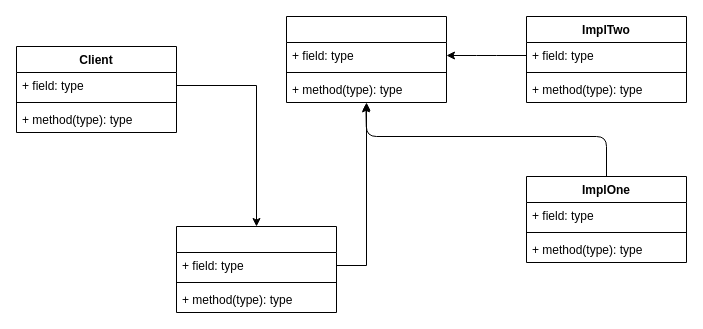
Some shapes in this 703 by 329 pixel diagram are drawn without their labels. Here are the shapes that lost their labels. From the top down, the box of each, then its label:
(286, 16, 446, 102): Api
(176, 226, 336, 312): Factory
